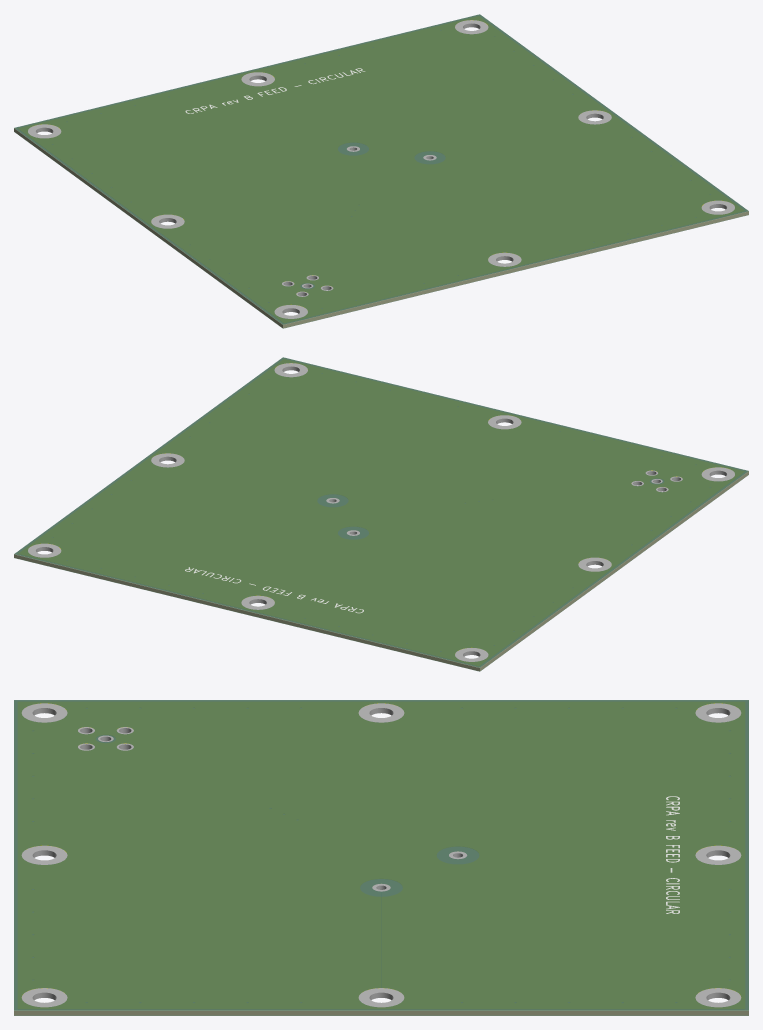
Rendered from feed_circular.glb.
3 renders of one model, top to bottom at view 1: azimuth 30°, elevation 25°; view 2: azimuth 150°, elevation 25°; view 3: azimuth 270°, elevation 25°, orthographic. The views are drawn at different scales.
Parts seen in each view (by area): view 1: =>[0:1:1:11], =>[0:1:1:6], =>[0:1:1:13], =>[0:1:1:7], =>[0:1:1:12]; view 2: =>[0:1:1:11], =>[0:1:1:6], =>[0:1:1:13], =>[0:1:1:7], =>[0:1:1:12]; view 3: =>[0:1:1:11], =>[0:1:1:6], =>[0:1:1:13], =>[0:1:1:7], =>[0:1:1:12], =>[0:1:1:9].
Part boxes in pixels (bbox=[...]): =>[0:1:1:11]: bbox=[14, 14, 748, 324]; =>[0:1:1:6]: bbox=[19, 16, 743, 322]; =>[0:1:1:13]: bbox=[14, 15, 748, 328]; =>[0:1:1:7]: bbox=[28, 20, 734, 318]; =>[0:1:1:12]: bbox=[15, 132, 748, 328]; =>[0:1:1:11]: bbox=[14, 357, 748, 667]; =>[0:1:1:6]: bbox=[19, 359, 743, 665]; =>[0:1:1:13]: bbox=[14, 358, 748, 671]; =>[0:1:1:7]: bbox=[28, 363, 734, 661]; =>[0:1:1:12]: bbox=[14, 475, 747, 671]; =>[0:1:1:11]: bbox=[14, 700, 748, 1010]; =>[0:1:1:6]: bbox=[18, 702, 744, 1008]; =>[0:1:1:13]: bbox=[14, 701, 748, 1015]; =>[0:1:1:7]: bbox=[21, 703, 741, 1007]; =>[0:1:1:12]: bbox=[14, 1015, 748, 1015]; =>[0:1:1:9]: bbox=[666, 796, 679, 913].
Bounding box in the file's own units: 0.096 × 0.00163 × 0.096.
